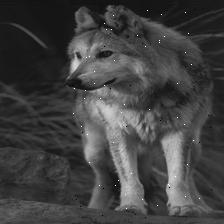WOLF: (66, 6, 213, 221)
